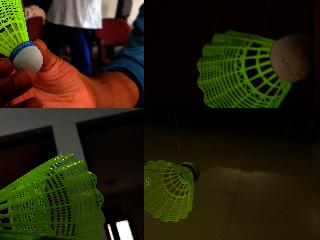shuttlecock: (196, 28, 315, 107), (0, 154, 105, 239), (144, 159, 200, 222), (0, 0, 44, 73)
